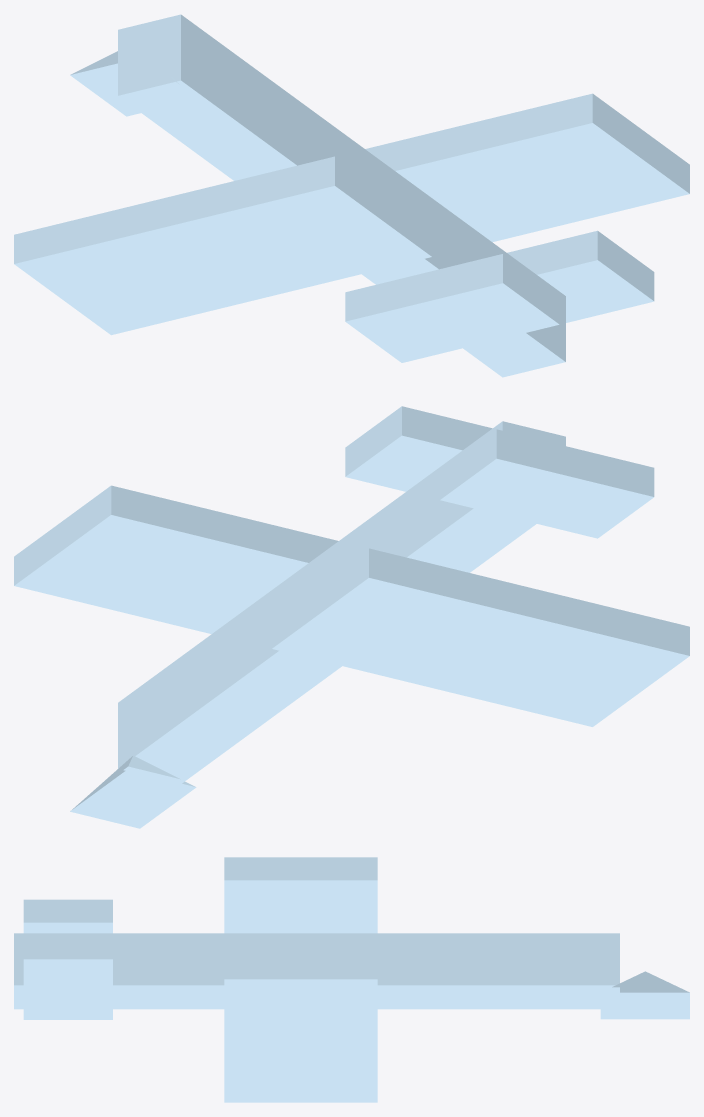
File: unit-air.gltf
3 views of the same model, one above another, from view 1: azimuth 30°, elevation 25°; view 2: azimuth 150°, elevation 25°; view 3: azimuth 270°, elevation 25° (orthographic). The views are drawn at different scales.
Visible parts, largest first — view 1: unit-air; view 2: unit-air; view 3: unit-air.
Part boxes in pixels (<box>): unit-air: <box>14,14,689,377</box>; unit-air: <box>14,406,689,828</box>; unit-air: <box>14,857,689,1102</box>.
Bounding box in the file's own units: 1.65 × 0.21 × 2.12.
